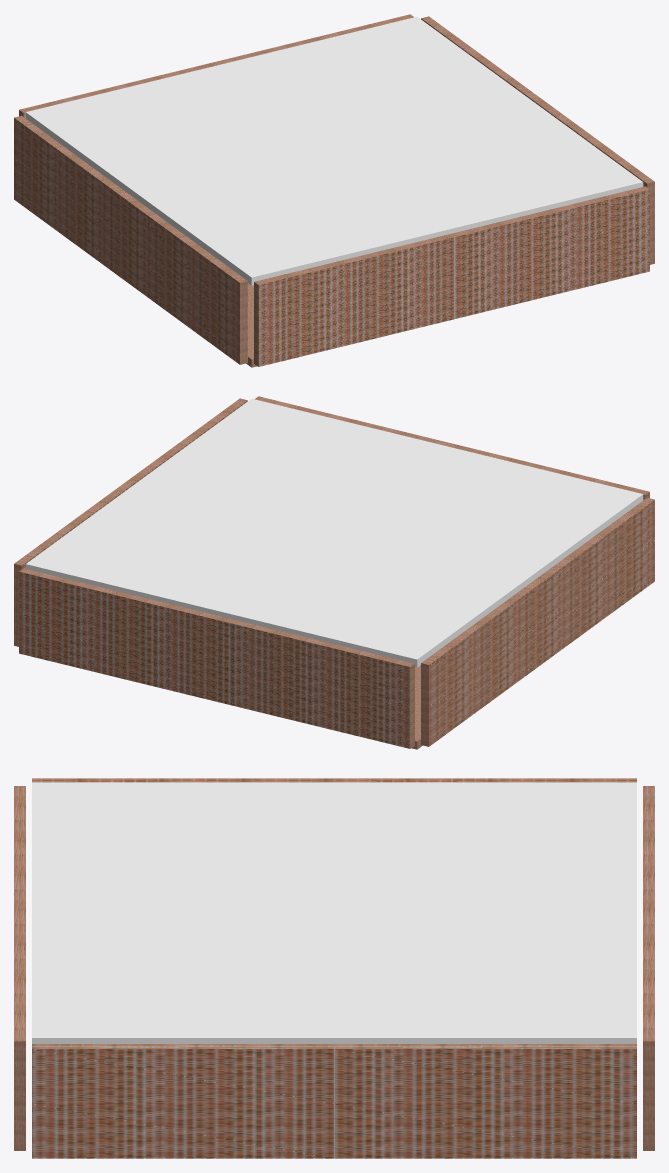
Rendered from room.glb.
3 renders of one model, top to bottom at view 1: azimuth 30°, elevation 25°; view 2: azimuth 150°, elevation 25°; view 3: azimuth 270°, elevation 25°, orthographic. The views are drawn at different scales.
Parts seen in each view (by area): view 1: ceiling, Cube.001, Cube.004, Cube.005, Cube.003; view 2: ceiling, Cube.003, Cube.004, Cube.005, Cube.001; view 3: ceiling, Cube.005, Cube.001, Cube.003, Cube.004.
Boxes of the visible parts, <box> form: ceiling: <box>25,16,643,285</box>; Cube.001: <box>254,186,649,366</box>; Cube.004: <box>14,115,247,364</box>; Cube.005: <box>421,16,654,264</box>; Cube.003: <box>19,14,413,117</box>; ceiling: <box>25,398,643,667</box>; Cube.003: <box>19,568,414,748</box>; Cube.004: <box>421,497,654,746</box>; Cube.005: <box>14,398,247,646</box>; Cube.001: <box>255,396,649,499</box>; ceiling: <box>32,782,636,1043</box>; Cube.005: <box>32,1044,636,1158</box>; Cube.001: <box>14,786,25,1150</box>; Cube.003: <box>643,786,654,1150</box>; Cube.004: <box>32,778,636,782</box>.
Size of the model in its own units: 106 by 22 by 106.
3 materials, 2 textured.
